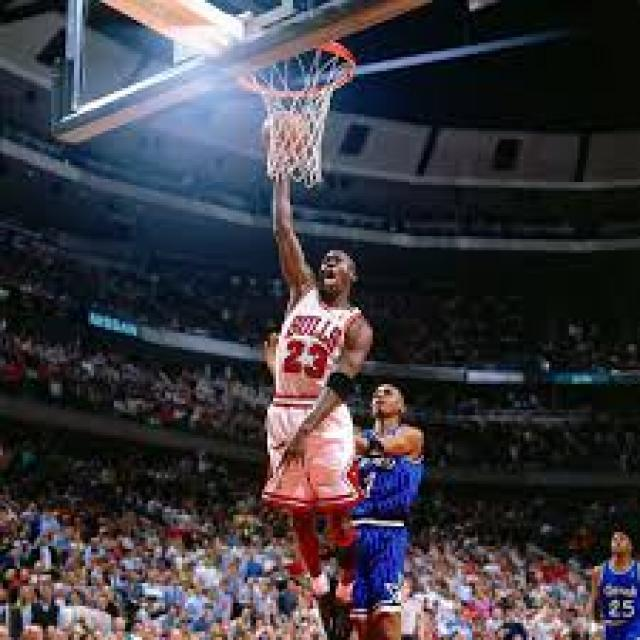rim: (262, 108, 310, 157)
